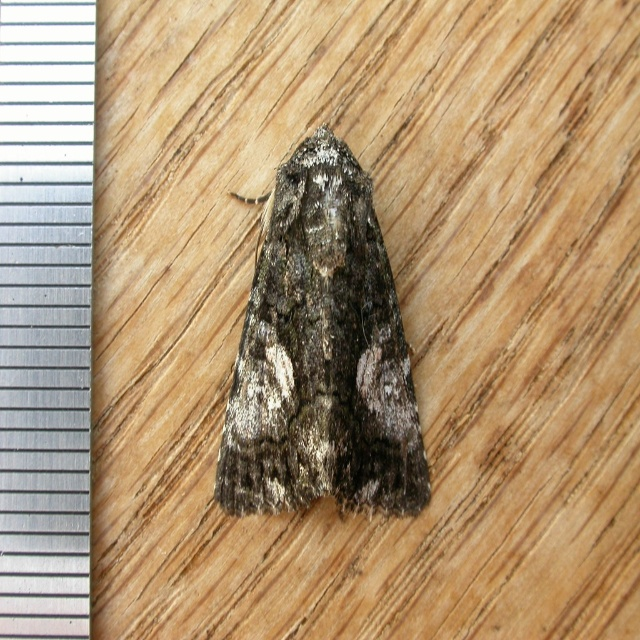Moths and butterflies: (214, 117, 432, 529)
